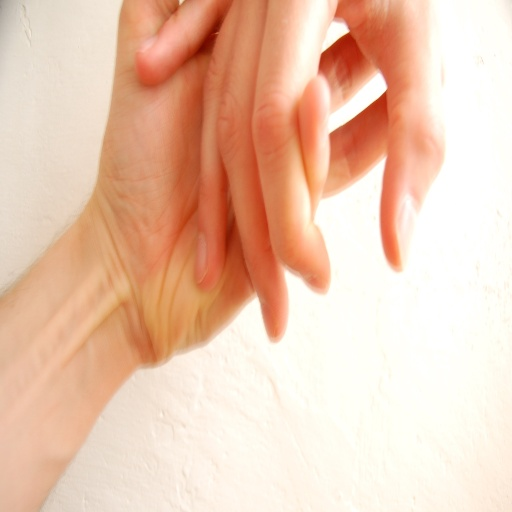hand: (133, 0, 445, 342)
